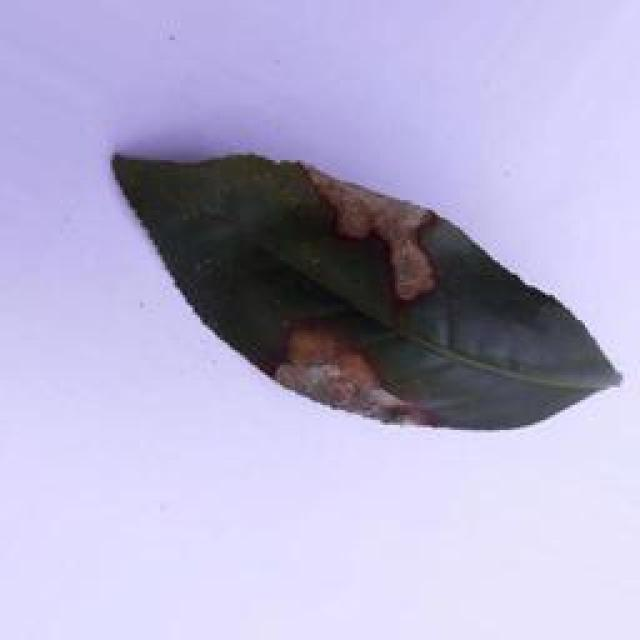Gray Blight: (71, 145, 627, 438)
